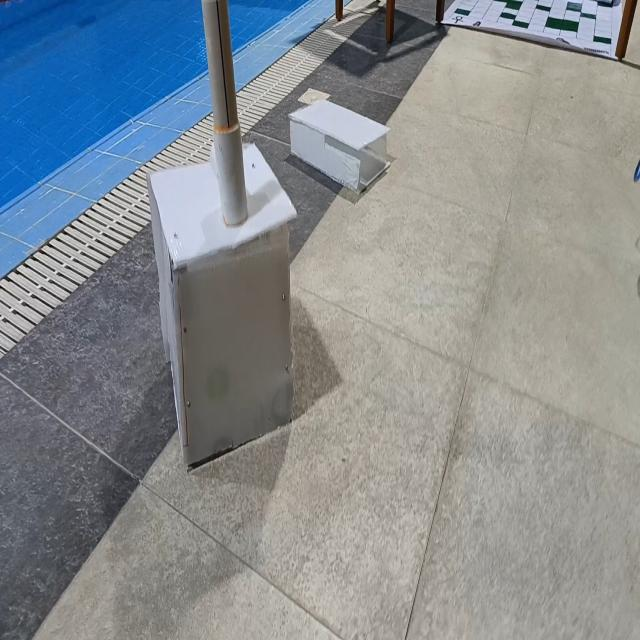Cube: (146, 139, 298, 470)
Cuboid: (288, 97, 391, 194)
